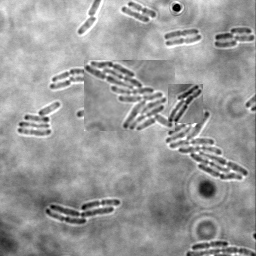Dividing: (128, 1, 157, 18), (166, 34, 202, 47), (52, 67, 84, 81), (164, 28, 200, 39), (192, 239, 229, 249)
Microcolony: (158, 109, 249, 180), (84, 60, 175, 131), (45, 199, 121, 224), (18, 101, 61, 136), (168, 84, 203, 123), (214, 27, 255, 48)
Rod: (121, 5, 150, 23), (78, 16, 99, 34), (50, 79, 72, 89), (69, 73, 84, 82)
